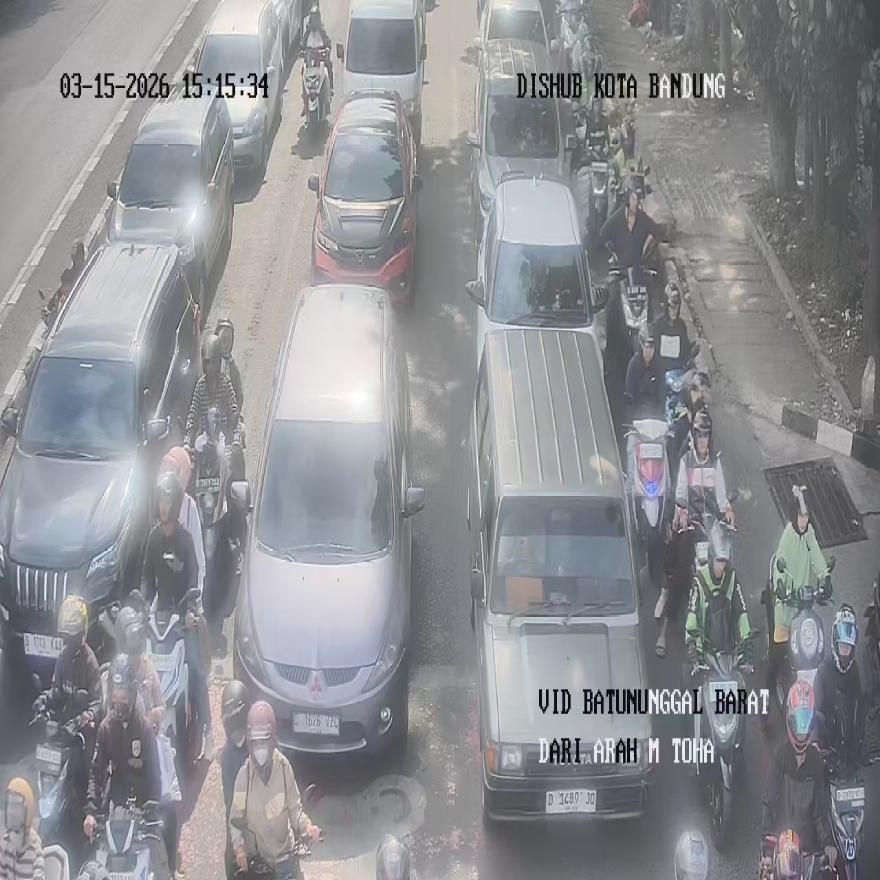Mobil: (226, 284, 425, 760), (466, 326, 653, 822), (0, 241, 198, 684), (465, 172, 608, 374), (106, 88, 234, 313), (308, 89, 422, 306), (467, 36, 573, 250), (186, 0, 284, 181), (335, 0, 427, 148)
Motor: (690, 644, 752, 851), (144, 586, 205, 773), (29, 675, 94, 848), (772, 552, 834, 712), (191, 407, 241, 587), (78, 792, 172, 880), (624, 419, 670, 578), (606, 248, 657, 367), (820, 750, 866, 880), (300, 41, 332, 140), (584, 154, 613, 252), (375, 832, 412, 880)
